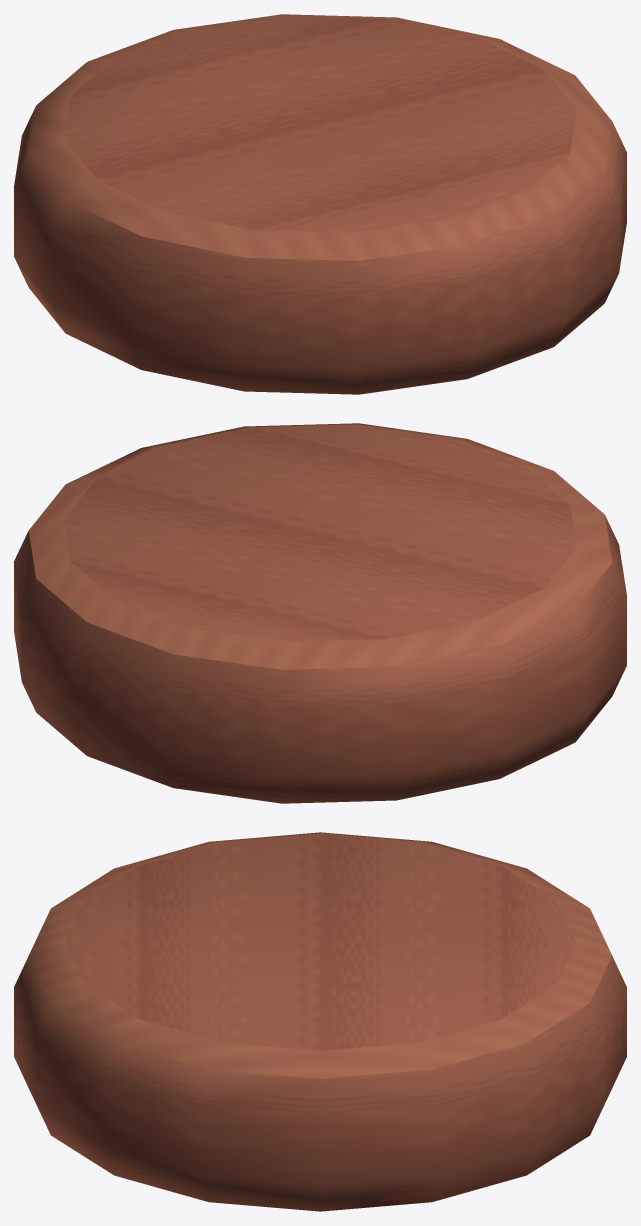
File: food_ingredient_burger_cooked.gltf
The picture shows the model from 3 angles, top to bottom: view 1: azimuth 30°, elevation 25°; view 2: azimuth 150°, elevation 25°; view 3: azimuth 270°, elevation 25°; orthographic projection.
Visible parts, largest first — view 1: food_ingredient_burger_cooked; view 2: food_ingredient_burger_cooked; view 3: food_ingredient_burger_cooked.
Boxes of the visible parts, x1,y1,x2,y2 form: food_ingredient_burger_cooked: (14,14,626,394); food_ingredient_burger_cooked: (14,423,626,803); food_ingredient_burger_cooked: (14,832,626,1211).
Bounding box in the file's own units: 0.7 × 0.2 × 0.7.
1 material, 1 textured.
